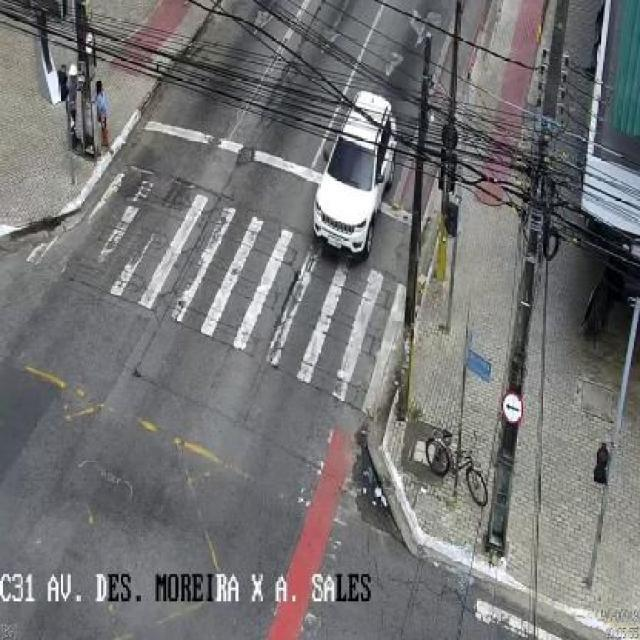Car: (310, 90, 400, 260)
Cycle: (426, 428, 490, 508)
